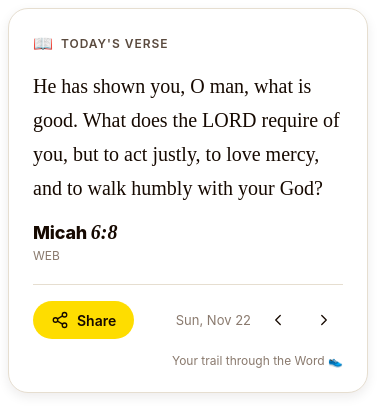
VerseCard › navigates days and comes back
Click the button named "Next day": (324, 320) [305, 301, 343, 339]
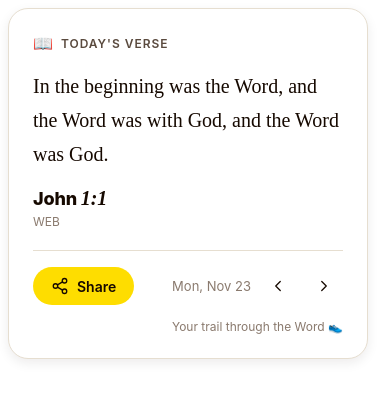
Check: the text "Micah 6:8" is gone
Click the button named "Previous day": (278, 286) [259, 267, 297, 305]
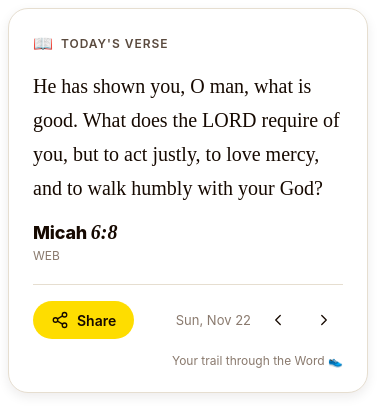
Check: the element showing "Micah 6:8" is shown, box [33, 221, 118, 243]
